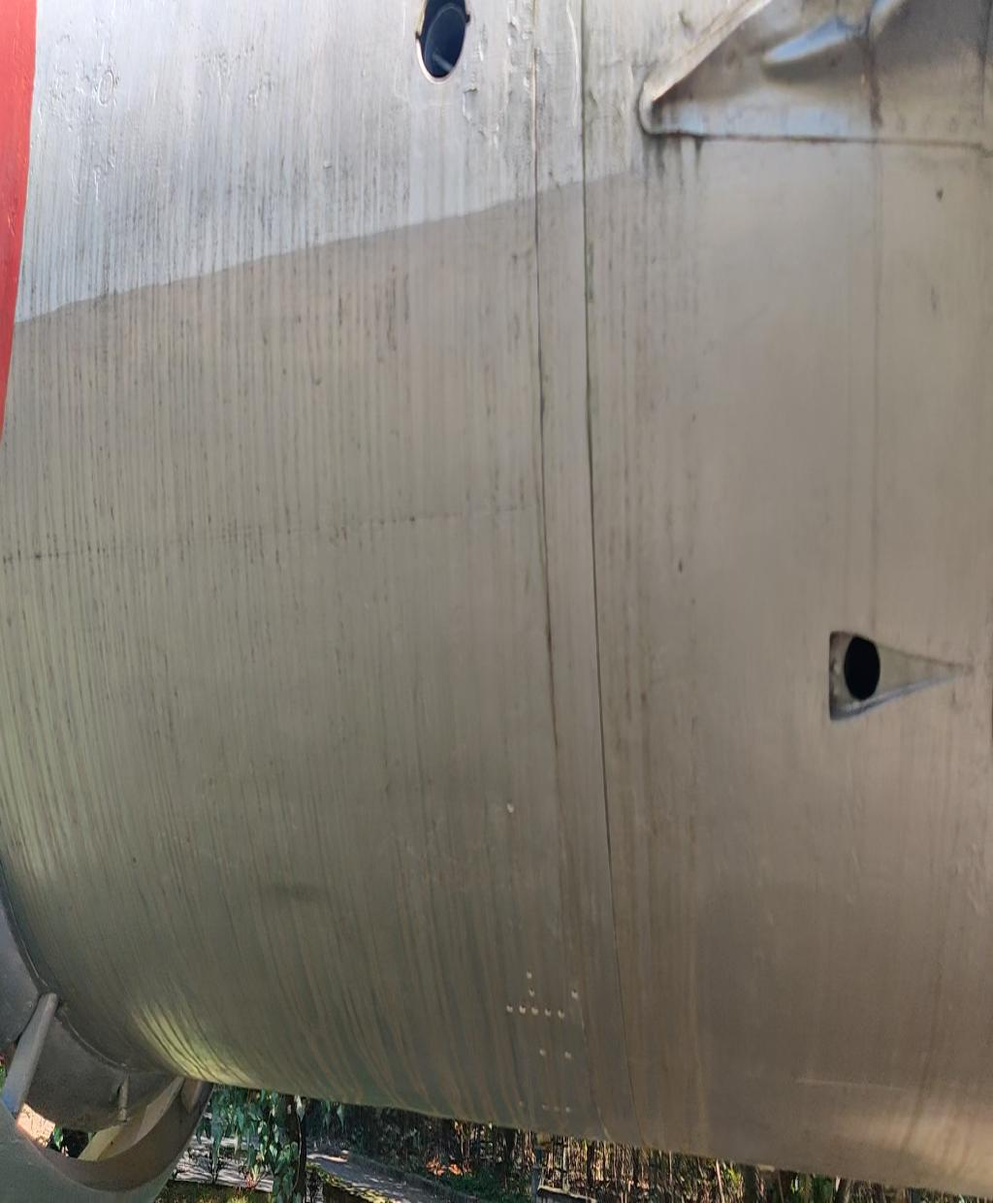dent: (754, 0, 871, 122)
